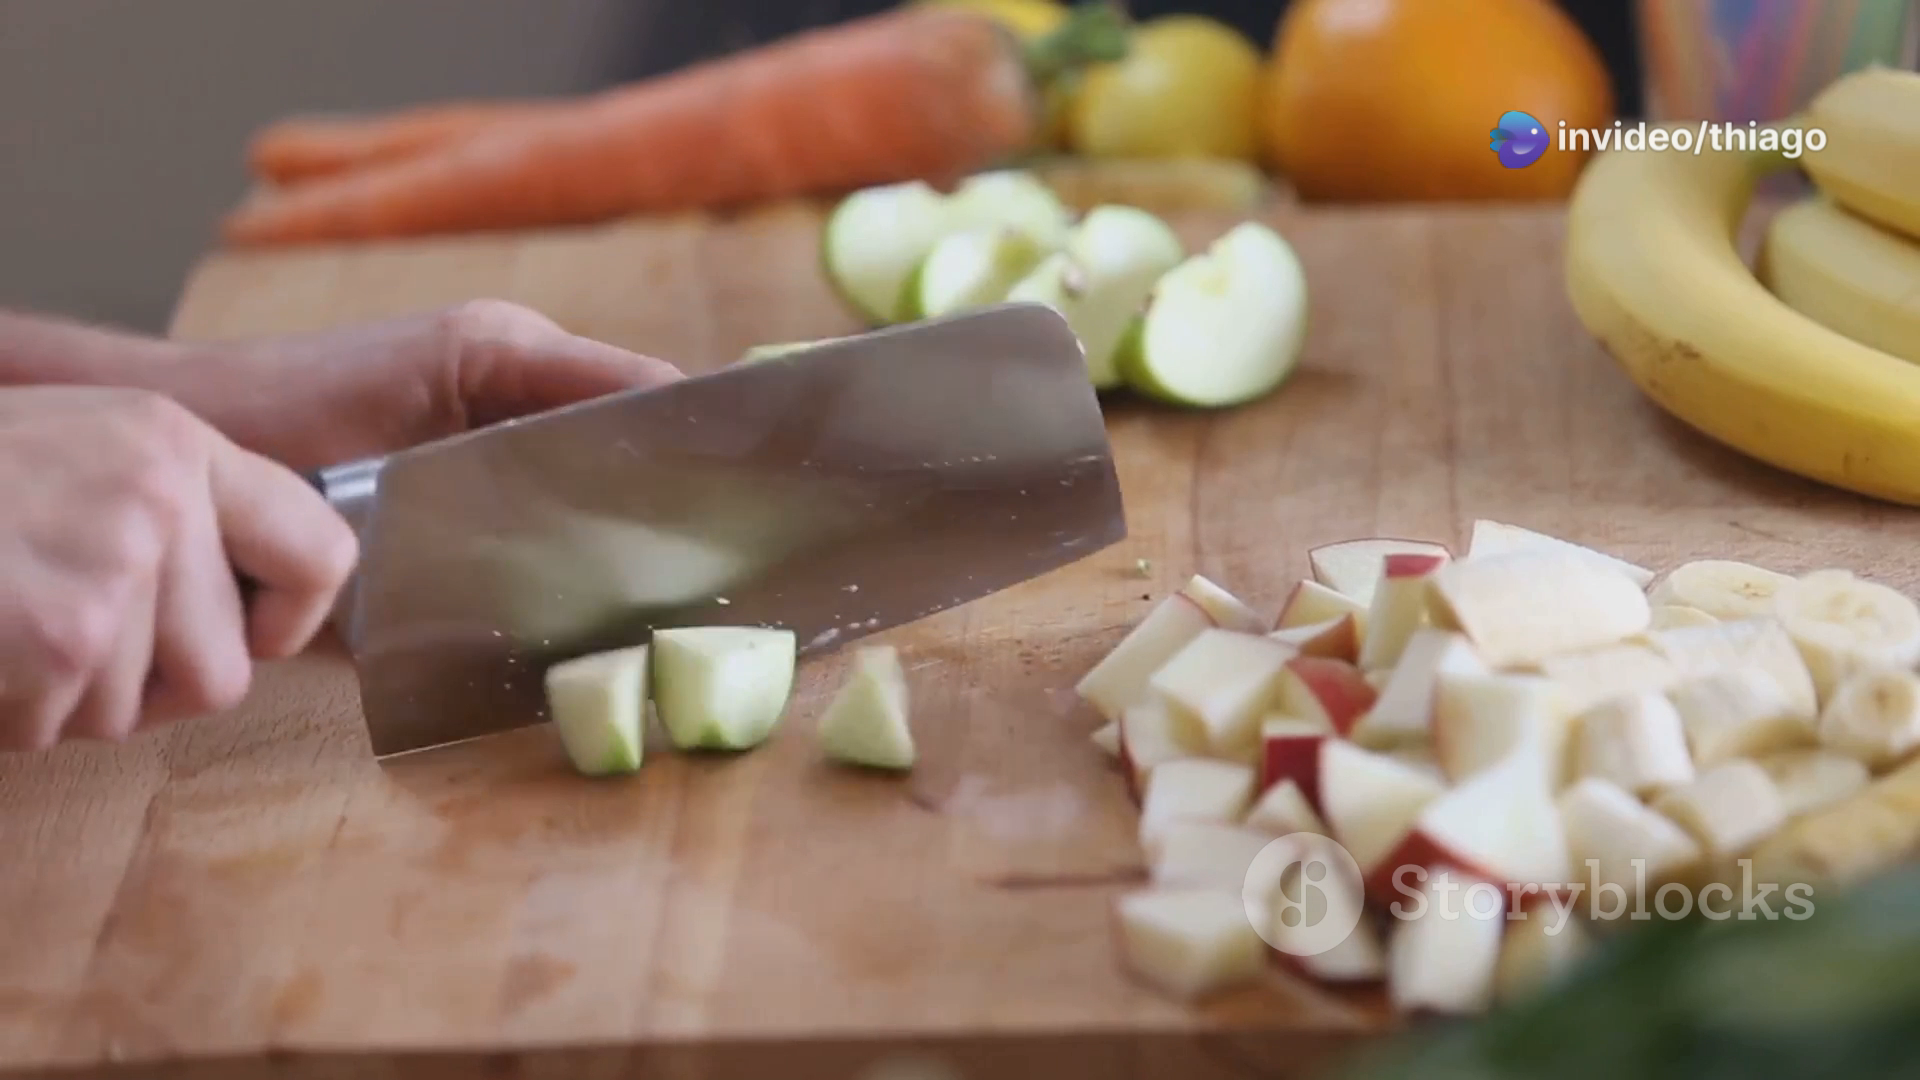cortante: (289, 295, 1130, 753)
